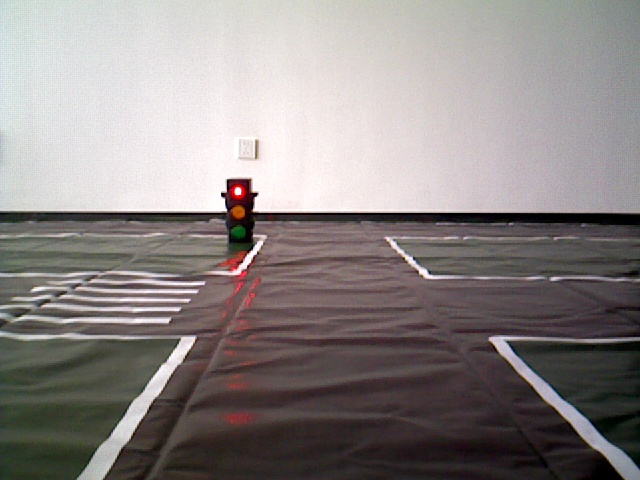red: (229, 179, 249, 245)
